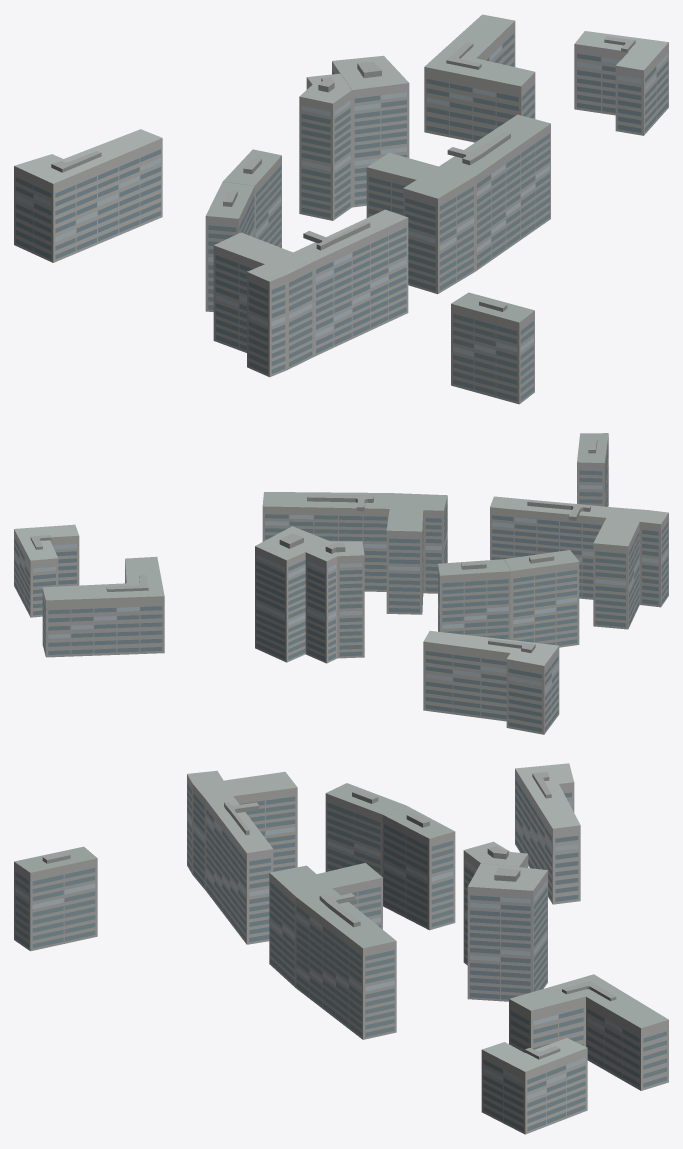
Rendered from apt-a41279920.glb.
3 renders of one model, top to bottom at view 1: azimuth 30°, elevation 25°; view 2: azimuth 150°, elevation 25°; view 3: azimuth 270°, elevation 25°, orthographic. The views are drawn at different scales.
Visible parts, largest first — view 1: apt-a41279920; view 2: apt-a41279920; view 3: apt-a41279920.
Boxes of the visible parts, x1,y1,x2,y2 form: apt-a41279920: (14, 14, 668, 404); apt-a41279920: (14, 433, 668, 734); apt-a41279920: (14, 763, 668, 1134).
Bounding box in the file's own units: 231 × 43 × 217.
